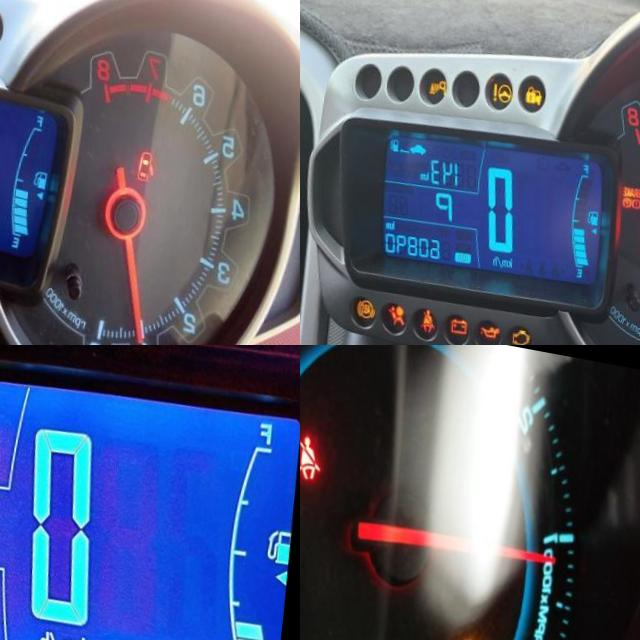Doors: (145, 132, 167, 166)
